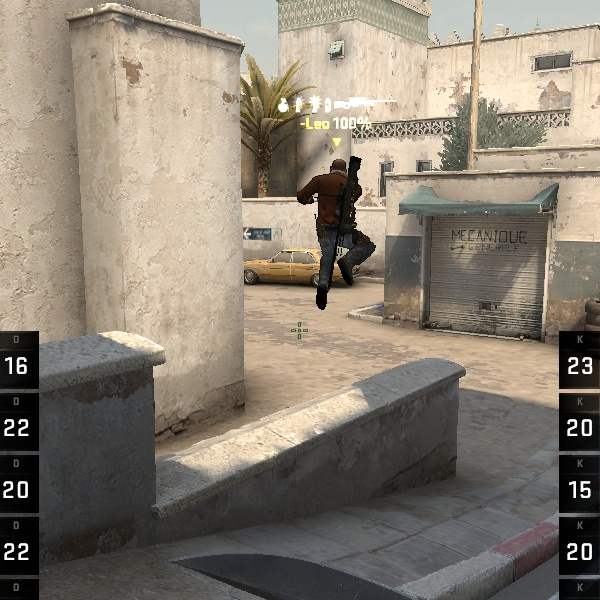t_body: (297, 146, 393, 315)
t_head: (319, 148, 352, 181)
